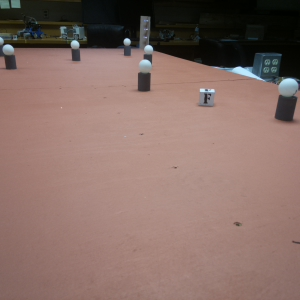obstacle: (274, 78, 296, 122), (138, 59, 151, 92), (3, 45, 16, 70), (70, 40, 81, 61), (143, 44, 154, 64), (122, 37, 132, 56), (1, 37, 6, 54)
